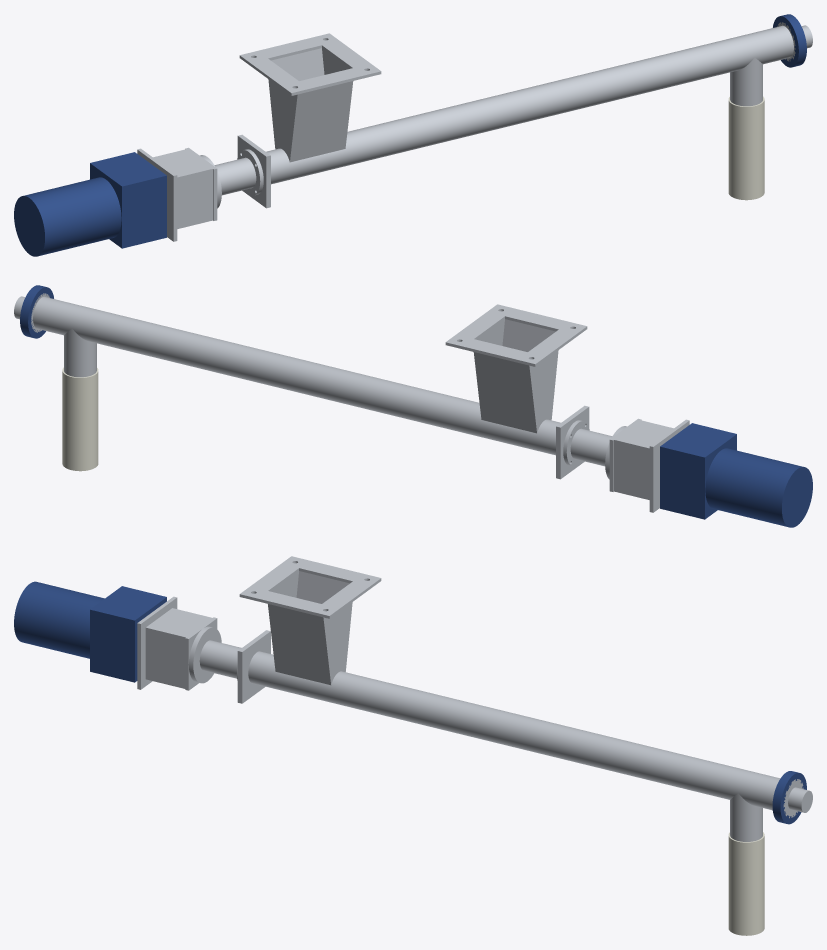
Rendered from P1-212-ASM.glb.
The picture shows the model from 3 angles, top to bottom: view 1: azimuth 30°, elevation 25°; view 2: azimuth 150°, elevation 25°; view 3: azimuth 330°, elevation 25°; orthographic projection.
Visible parts, largest first — view 1: P1-212-101, P1-216, P1-212-102, P1-212-104, P1-214, P1-212-400, P1-212-301, P1-212-404, P1-212-106, P1-212-105, P1-247; view 2: P1-212-101, P1-216, P1-212-102, P1-212-104, P1-214, P1-212-400, P1-212-301, P1-212-404, P1-212-106, P1-212-105, P1-247; view 3: P1-212-101, P1-216, P1-212-102, P1-212-104, P1-214, P1-212-400, P1-212-301, P1-212-404, P1-212-106, P1-212-105, P1-247, P1-212-306.
Part boxes in pixels (left/top/right/bottom): P1-212-101: left=266, top=27, right=787, bottom=184; P1-216: left=14, top=152, right=166, bottom=256; P1-212-102: left=268, top=48, right=353, bottom=162; P1-212-104: left=239, top=33, right=381, bottom=95; P1-214: left=728, top=96, right=764, bottom=200; P1-212-400: left=137, top=147, right=217, bottom=241; P1-212-301: left=200, top=149, right=263, bottom=208; P1-212-404: left=177, top=172, right=212, bottom=225; P1-212-106: left=730, top=57, right=762, bottom=106; P1-212-105: left=237, top=134, right=270, bottom=208; P1-247: left=773, top=14, right=806, bottom=67; P1-212-101: left=39, top=298, right=560, bottom=455; P1-216: left=660, top=423, right=812, bottom=527; P1-212-102: left=473, top=319, right=558, bottom=433; P1-212-104: left=445, top=304, right=587, bottom=366; P1-214: left=62, top=367, right=98, bottom=471; P1-212-400: left=609, top=418, right=689, bottom=512; P1-212-301: left=563, top=420, right=626, bottom=479; P1-212-404: left=614, top=443, right=649, bottom=496; P1-212-106: left=64, top=328, right=96, bottom=377; P1-212-105: left=556, top=405, right=589, bottom=479; P1-247: left=20, top=285, right=53, bottom=338; P1-212-101: left=248, top=651, right=780, bottom=810; P1-216: left=14, top=581, right=166, bottom=682; P1-212-102: left=268, top=571, right=352, bottom=685; P1-212-104: left=239, top=556, right=381, bottom=618; P1-214: left=728, top=832, right=764, bottom=935; P1-212-400: left=137, top=596, right=217, bottom=690; P1-212-301: left=188, top=626, right=241, bottom=683; P1-212-404: left=145, top=631, right=185, bottom=684; P1-212-106: left=730, top=793, right=762, bottom=841; P1-212-105: left=237, top=630, right=270, bottom=703; P1-247: left=772, top=771, right=806, bottom=824; P1-212-306: left=783, top=779, right=812, bottom=818.
Bounding box in the file's own units: 1730 × 501 × 200.
